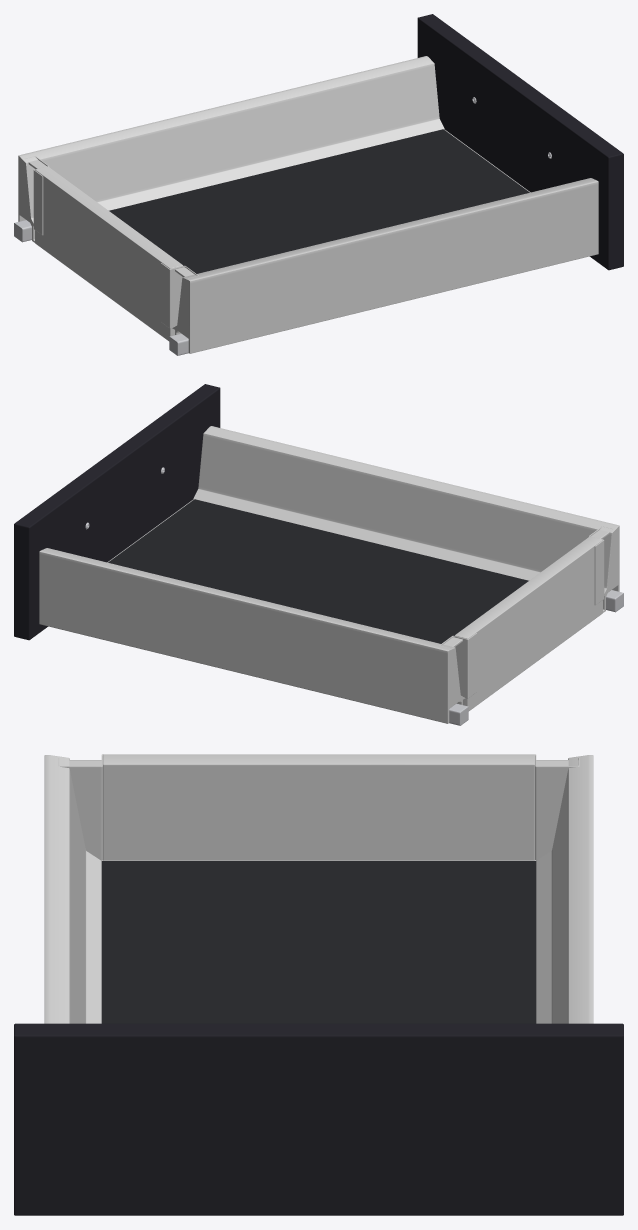
The model's file is Kitchen06Drawer01.fbx.
The picture shows the model from 3 angles, top to bottom: view 1: azimuth 30°, elevation 25°; view 2: azimuth 150°, elevation 25°; view 3: azimuth 270°, elevation 25°; orthographic projection. The views are drawn at different scales.
Visible parts, largest first — view 1: Kitchen06Drawer01; view 2: Kitchen06Drawer01; view 3: Kitchen06Drawer01.
Boxes of the visible parts, left/top/right/bottom form: Kitchen06Drawer01: left=14, top=14, right=623, bottom=355; Kitchen06Drawer01: left=14, top=384, right=623, bottom=725; Kitchen06Drawer01: left=14, top=754, right=623, bottom=1215.
Size of what is drawn, in the model's own units: 51.99 by 39.8 by 13.
4 materials, 1 textured.
